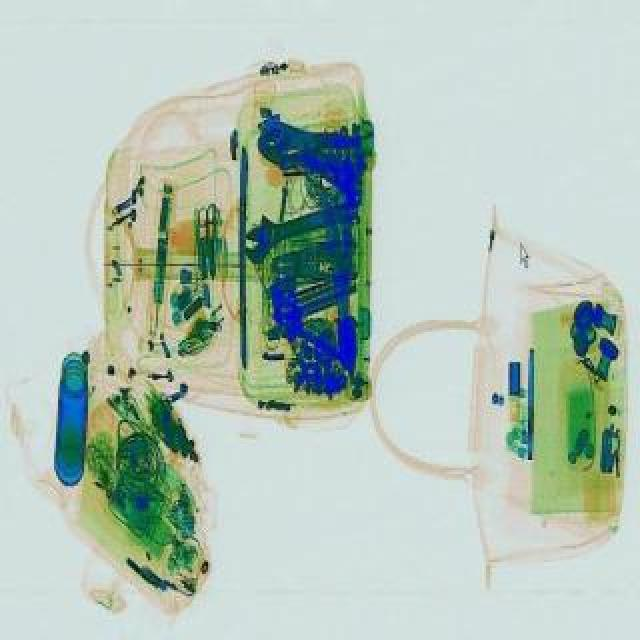scissors: (230, 184, 362, 264)
wrench: (254, 116, 362, 178), (268, 244, 352, 282)
